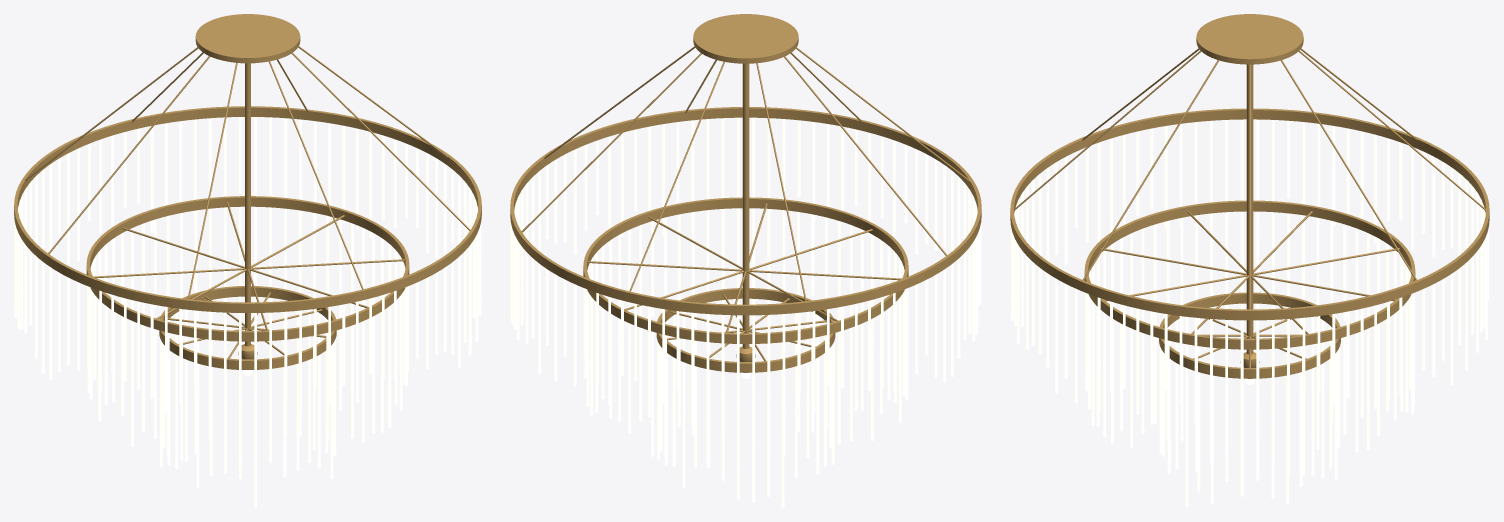
File: chandelier_deco.glb
3 views of the same model, side by side, from view 1: azimuth 30°, elevation 25°; view 2: azimuth 150°, elevation 25°; view 3: azimuth 270°, elevation 25° (orthographic). The views are drawn at different scales.
Visible parts, largest first — view 1: Ring_LOD0, Ring_LOD0.001, Rose_LOD0, Ring_LOD0.002, Stem_LOD0, Rod_LOD0.004, Rod_LOD0.006, Rod_LOD0.005, Rod_LOD0.007; view 2: Ring_LOD0, Ring_LOD0.001, Rose_LOD0, Ring_LOD0.002, Stem_LOD0, Rod_LOD0.004, Rod_LOD0.003, Rod_LOD0.002, Rod_LOD0.001; view 3: Ring_LOD0, Ring_LOD0.001, Rose_LOD0, Ring_LOD0.002, Stem_LOD0, Rod_LOD0.001, Rod_LOD0.007, Glass_LOD0.193, Rod_LOD0.002, Rod_LOD0.006.
Boxes of the visible parts, x1,y1,x2,y2 form: Ring_LOD0: [14, 106, 481, 312]; Ring_LOD0.001: [86, 196, 409, 341]; Rose_LOD0: [195, 14, 300, 63]; Ring_LOD0.002: [159, 286, 336, 369]; Stem_LOD0: [245, 63, 250, 346]; Rod_LOD0.004: [48, 56, 209, 254]; Rod_LOD0.006: [269, 61, 363, 289]; Rod_LOD0.005: [187, 62, 237, 299]; Rod_LOD0.007: [291, 53, 470, 230]; Ring_LOD0: [510, 107, 981, 315]; Ring_LOD0.001: [583, 197, 908, 343]; Rose_LOD0: [693, 14, 798, 63]; Ring_LOD0.002: [656, 288, 835, 372]; Stem_LOD0: [742, 63, 749, 348]; Rod_LOD0.004: [784, 56, 947, 255]; Rod_LOD0.003: [756, 63, 806, 301]; Rod_LOD0.002: [629, 61, 724, 291]; Rod_LOD0.001: [521, 53, 701, 232]; Ring_LOD0: [1010, 108, 1489, 320]; Ring_LOD0.001: [1084, 200, 1415, 349]; Rose_LOD0: [1196, 14, 1303, 64]; Ring_LOD0.002: [1159, 292, 1340, 378]; Stem_LOD0: [1246, 64, 1253, 354]; Rod_LOD0.001: [1280, 60, 1417, 280]; Rod_LOD0.007: [1082, 60, 1219, 280]; Glass_LOD0.193: [1185, 368, 1188, 503]; Rod_LOD0.002: [1298, 50, 1486, 210]; Rod_LOD0.006: [1013, 50, 1201, 210].
Bounding box in the file's own units: 3.22 × 3.31 × 3.22.
